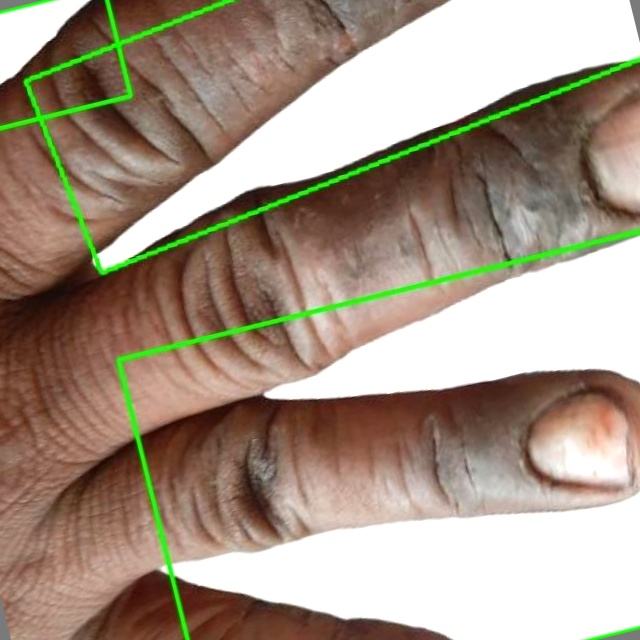Eczema: (118, 231, 639, 639), (23, 0, 639, 272)
